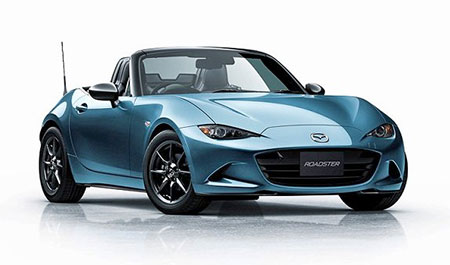sedan: (37, 41, 411, 216)
